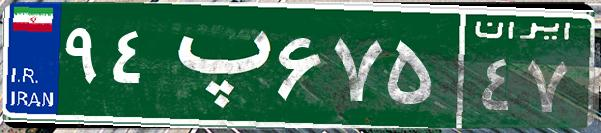4: (475, 38, 525, 113), (110, 28, 158, 105)
5: (385, 28, 445, 110)
6: (273, 28, 330, 110)
7: (330, 28, 385, 110), (525, 38, 570, 115)
9: (57, 26, 110, 107)
پ: (158, 15, 273, 115)
